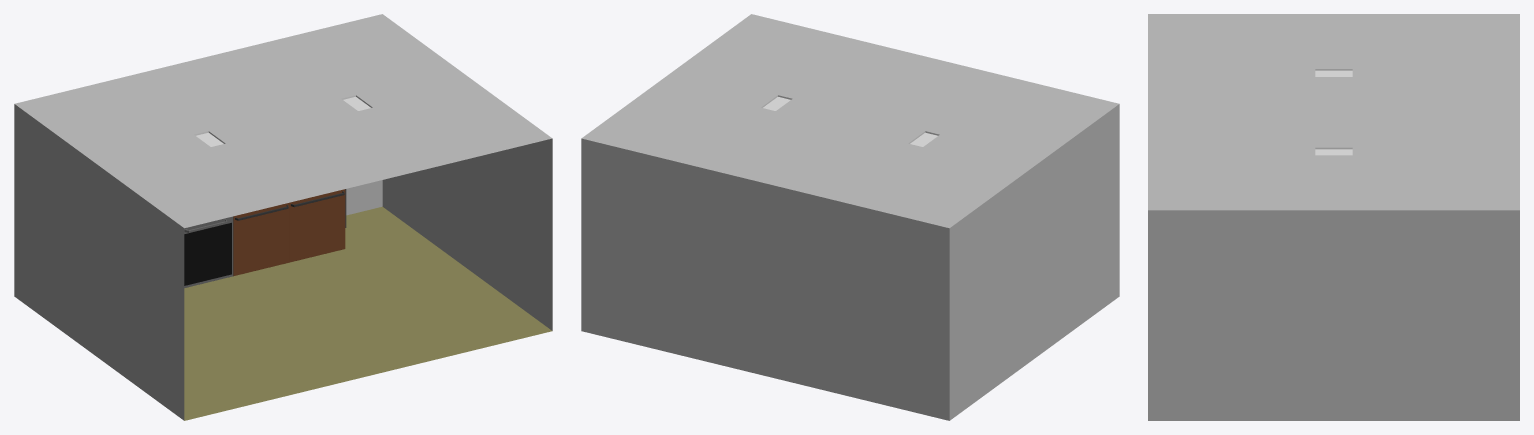
Rendered from Kueche.fbx.
3 views of the same model, side by side, from view 1: azimuth 30°, elevation 25°; view 2: azimuth 150°, elevation 25°; view 3: azimuth 270°, elevation 25° (orthographic). The views are drawn at different scales.
Visible parts, largest first — view 1: Kueche, Kuechenschrank_3, Kuechenschrank_2, Herd; view 2: Kueche; view 3: Kueche.
Part boxes in pixels (x1,y1,x2,y2): Kueche: [14, 14, 552, 420]; Kuechenschrank_3: [289, 189, 345, 262]; Kuechenschrank_2: [233, 203, 289, 276]; Herd: [184, 216, 233, 287]; Kueche: [581, 14, 1119, 420]; Kueche: [1148, 14, 1519, 420].
Bounding box in the file's own units: 500 × 250 × 400.
